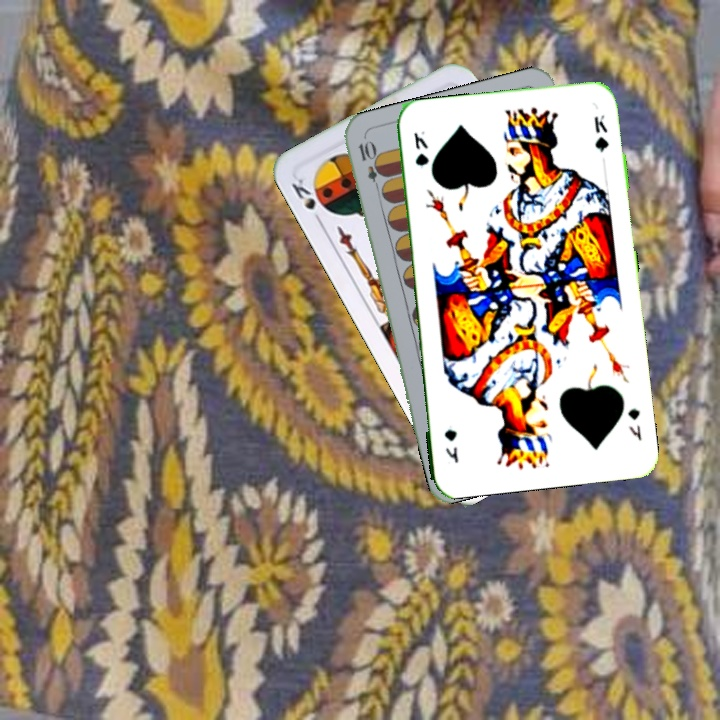E10: (354, 137, 385, 195)
GK: (409, 127, 431, 169), (623, 404, 644, 443)
SK: (287, 174, 325, 228)
